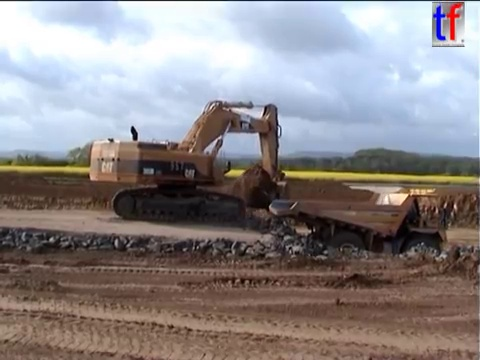excavator: (85, 97, 290, 224)
truck: (266, 185, 456, 274)
